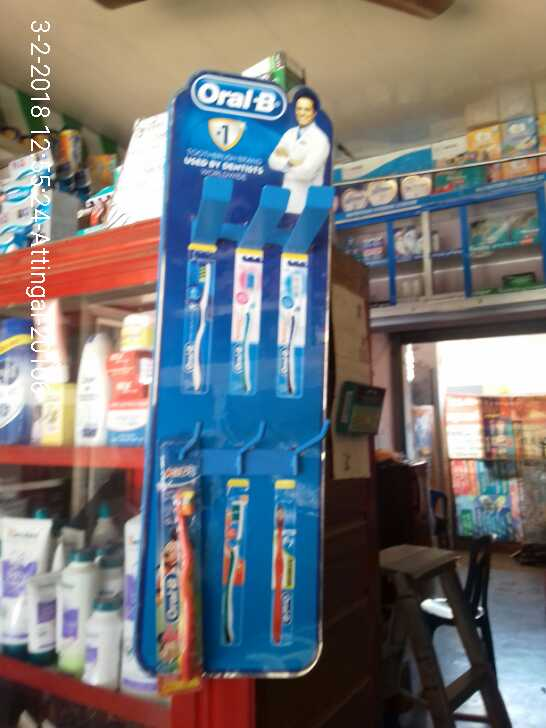pharmacy: (157, 438, 206, 698), (434, 165, 486, 191), (467, 214, 509, 244), (508, 211, 539, 238)
